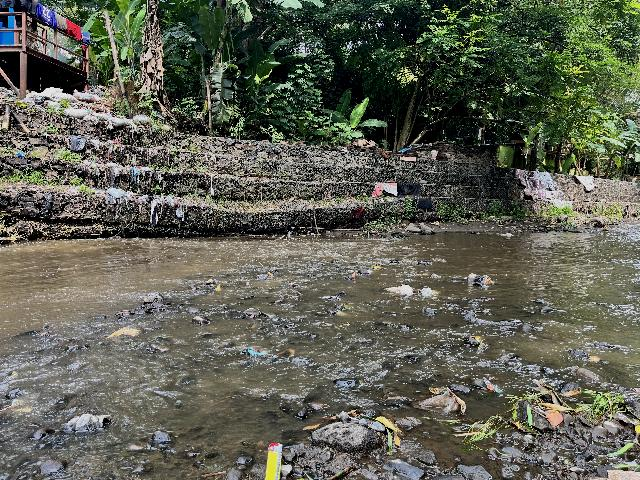Sampah Anorganik: (414, 384, 469, 415), (464, 269, 496, 291), (264, 441, 282, 480), (237, 343, 271, 360), (384, 284, 414, 298), (482, 376, 504, 394), (421, 286, 441, 298), (321, 294, 343, 302), (285, 280, 297, 286), (371, 266, 382, 270)
Sampah Organik: (510, 370, 640, 480), (296, 407, 408, 454), (0, 401, 35, 416), (101, 327, 140, 337), (469, 334, 484, 349), (274, 348, 294, 357), (585, 353, 602, 363), (195, 471, 228, 476), (112, 310, 131, 317), (334, 309, 346, 316), (343, 303, 355, 309), (214, 284, 223, 292), (267, 271, 276, 278), (250, 312, 261, 317), (351, 271, 357, 278)
